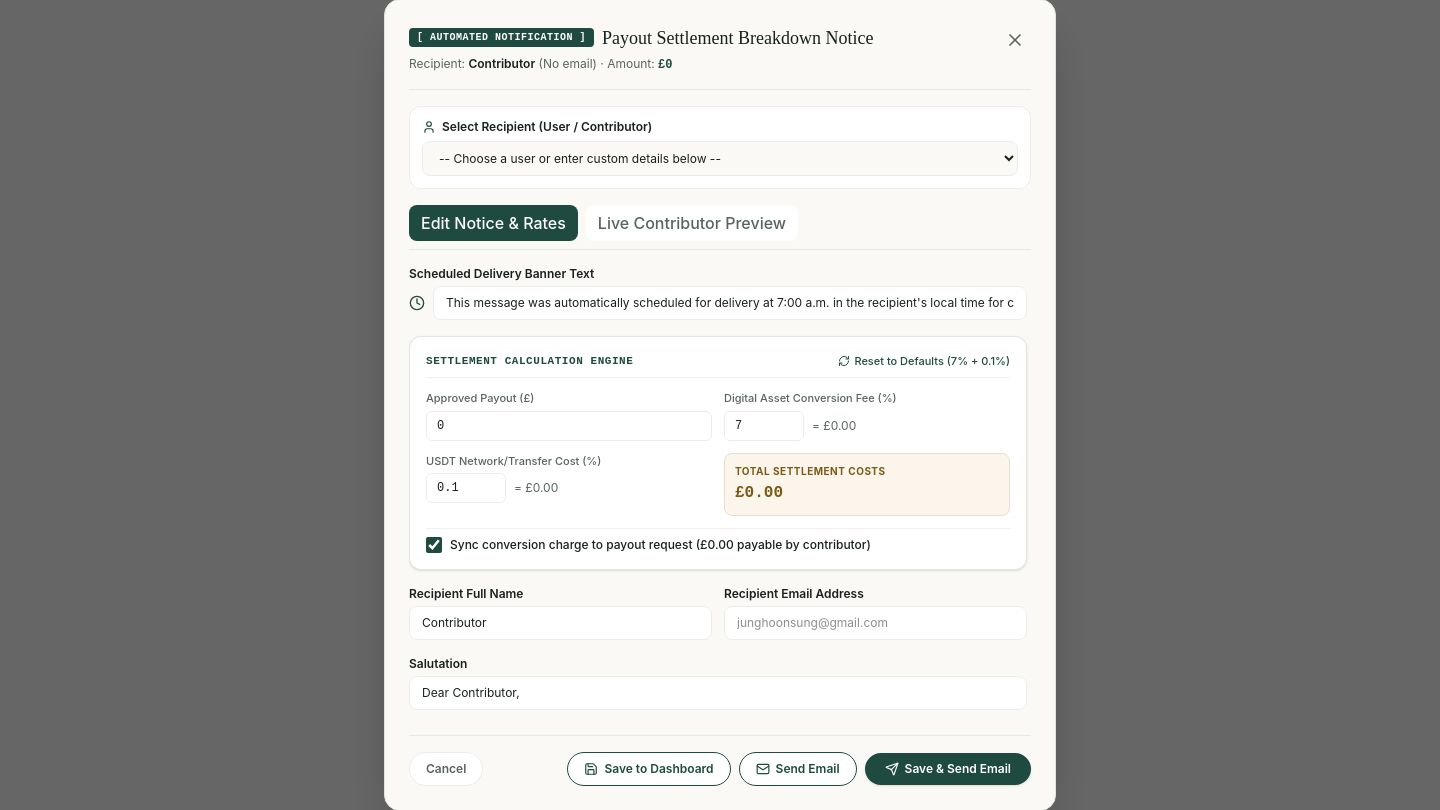
it: SettlementNoticeModal › loads candidate's unique existing settlement notice when candidate has one saved
The width and height of the screenshot is (1440, 810).
Select "Elena Rostova (elena@example.com) · Balance: £4200" in the dropdown. click: (720, 158)
box: [422,141,1018,176]
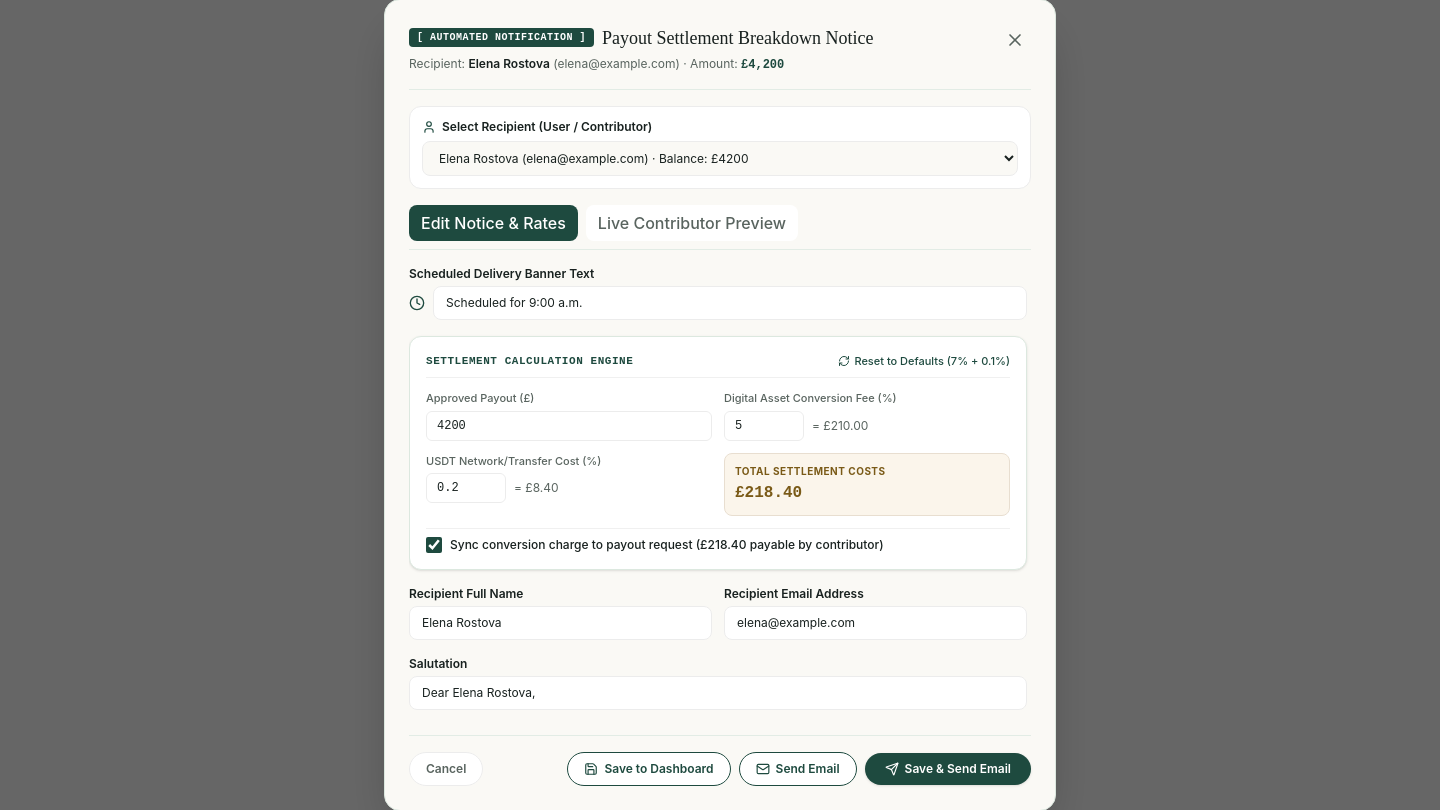
Check: the field showing "Elena Rostova" below "Recipient Full Name" is shown, box [409,606,712,640]
Check: the field showing "elena@example.com" below "Recipient Email Address" is shown, box [724,606,1027,640]
Check: the number field showing "4200" below "Approved Payout (£)" is shown, box [426,411,712,441]
// Now switch to Junghoon Sung: should prefill £16,060 breakdown
Select "Junghoon Sung (junghoonsung@gmail.com) · Balance: £16060" in the dropdown. click: (720, 158)
box: [422,141,1018,176]
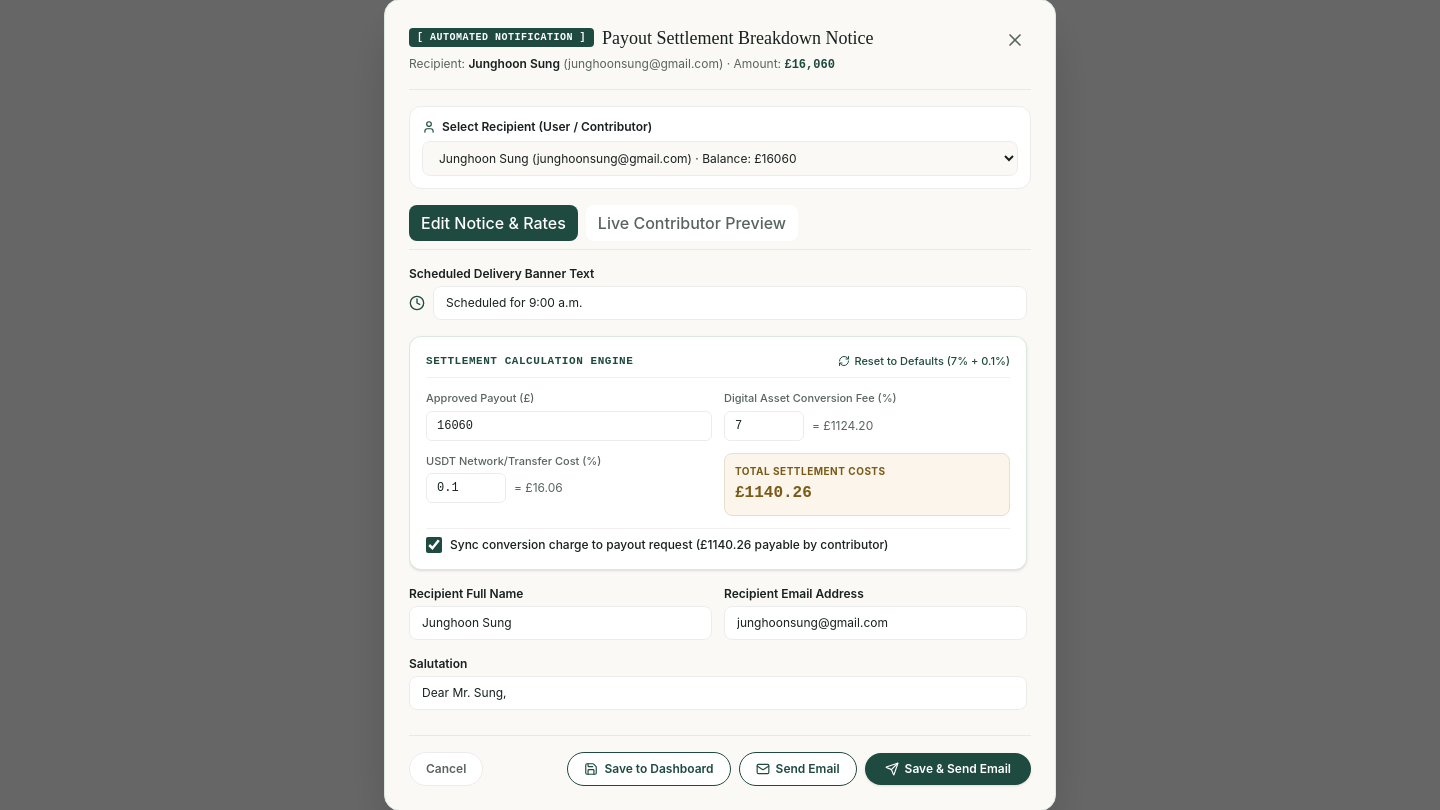
Check: the field showing "Junghoon Sung" below "Recipient Full Name" is shown, box [409,606,712,640]
Check: the number field showing "16060" below "Approved Payout (£)" is shown, box [426,411,712,441]
